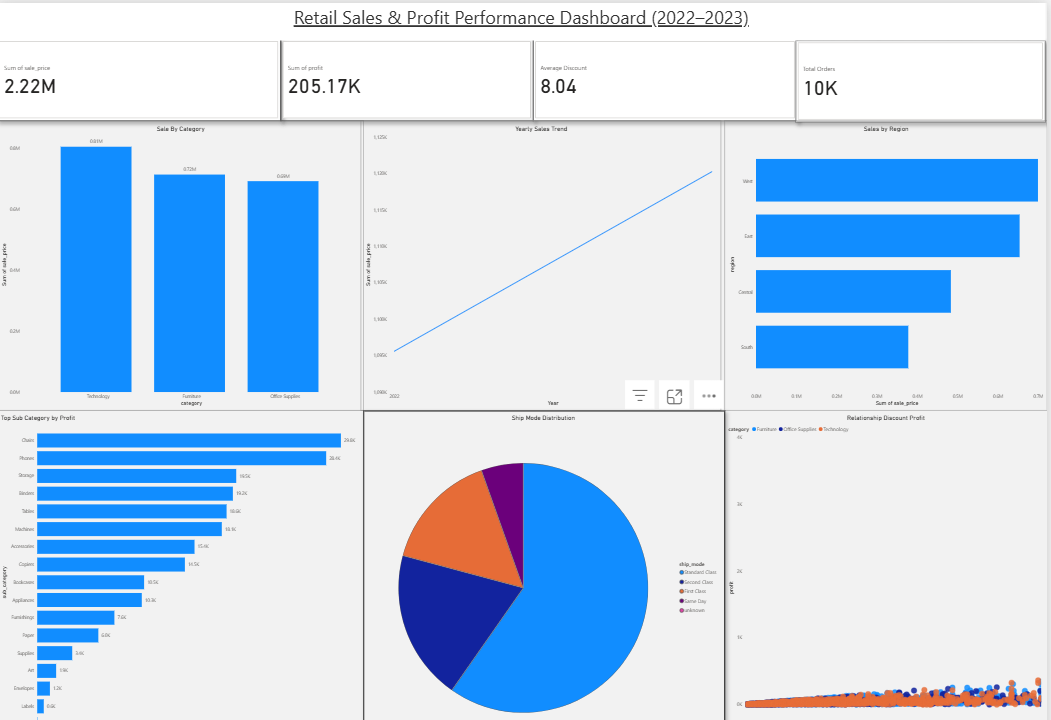

The dashboard page shown, as its layout file describes it:
{"tool":"powerbi","page":{"name":"Page 1","canvas":[2800,2500],"ordinal":0},"visuals":[{"type":"cardVisual","fields":{"Data":["Sum(cleaned_retail_data.sale_price)"]},"box":[0,95.7,756.5,217.4],"z":0},{"type":"cardVisual","fields":{"Data":["Sum(cleaned_retail_data.profit)"]},"box":[756.5,95.7,673.9,217.4],"z":1000},{"type":"cardVisual","fields":{"Data":["cleaned_retail_data.Average Discount"]},"box":[1430.4,95.7,704.3,217.4],"z":2000},{"type":"cardVisual","fields":{"Data":["cleaned_retail_data.Total Orders"]},"box":[2130.4,100,665.2,217.4],"z":3000},{"type":"clusteredColumnChart","title":"Sale By Category","fields":{"Category":["cleaned_retail_data.category"],"Y":["Sum(cleaned_retail_data.sale_price)"]},"box":[0,313,978.3,773.9],"z":4000},{"type":"lineChart","title":"Yearly Sales Trend","fields":{"Category":["cleaned_retail_data.month.Variation.Date Hierarchy.Year","cleaned_retail_data.month.Variation.Date Hierarchy.Quarter","cleaned_retail_data.month.Variation.Date Hierarchy.Month","cleaned_retail_data.month.Variation.Date Hierarchy.Day"],"Y":["Sum(cleaned_retail_data.sale_price)"]},"box":[969.6,313,960.9,773.9],"z":5000},{"type":"barChart","title":"Sales by Region","fields":{"Category":["cleaned_retail_data.region"],"Y":["Sum(cleaned_retail_data.sale_price)"]},"box":[1939.1,313,860.9,773.9],"z":6000},{"type":"barChart","title":"Top Sub Category by Profit","fields":{"Category":["cleaned_retail_data.sub_category"],"Y":["Sum(cleaned_retail_data.profit)"]},"box":[0,1087,978.3,921.7],"z":7000},{"type":"pieChart","title":"Ship Mode Distribution","fields":{"Category":["cleaned_retail_data.ship_mode"],"Y":["cleaned_retail_data.Total Orders"]},"box":[978.3,1087,960.9,921.7],"z":8000},{"type":"scatterChart","title":"Relationship Discount Profit","fields":{"X":["cleaned_retail_data.discount"],"Y":["cleaned_retail_data.profit"],"Series":["cleaned_retail_data.category"]},"box":[1939.1,1087,860.9,921.7],"z":9000},{"type":"advancedSlicerVisual","fields":{"Values":["cleaned_retail_data.order_date.Variation.Date Hierarchy.Year"]},"box":[0,2010,710,490],"z":10000},{"type":"advancedSlicerVisual","fields":{"Values":["cleaned_retail_data.category"]},"box":[710,2010,636.7,490],"z":11000},{"type":"advancedSlicerVisual","fields":{"Values":["cleaned_retail_data.ship_mode"]},"box":[1346.7,2010,786.7,490],"z":12000},{"type":"advancedSlicerVisual","fields":{"Values":["cleaned_retail_data.region"]},"box":[2133.3,2010,666.7,490],"z":13000},{"type":"textbox","box":[0,0,2795.7,100],"z":13001}]}

Visuals, with their boxes on the page's 2800x2500 design canvas (x1, y1, x2, y2). These are canvas units, not pixel positions in the 1051x720 screenshot, which may show the page scaled, cropped or inside an application window:
cardVisual - Sum(cleaned_retail_data.sale_price): (0, 96, 756, 313)
cardVisual - Sum(cleaned_retail_data.profit): (756, 96, 1430, 313)
cardVisual - cleaned_retail_data.Average Discount: (1430, 96, 2135, 313)
cardVisual - cleaned_retail_data.Total Orders: (2130, 100, 2796, 317)
"Sale By Category" clusteredColumnChart: (0, 313, 978, 1087)
"Yearly Sales Trend" lineChart: (970, 313, 1930, 1087)
"Sales by Region" barChart: (1939, 313, 2800, 1087)
"Top Sub Category by Profit" barChart: (0, 1087, 978, 2009)
"Ship Mode Distribution" pieChart: (978, 1087, 1939, 2009)
"Relationship Discount Profit" scatterChart: (1939, 1087, 2800, 2009)
advancedSlicerVisual - cleaned_retail_data.order_date.Variation.Date Hierarchy.Year: (0, 2010, 710, 2500)
advancedSlicerVisual - cleaned_retail_data.category: (710, 2010, 1347, 2500)
advancedSlicerVisual - cleaned_retail_data.ship_mode: (1347, 2010, 2133, 2500)
advancedSlicerVisual - cleaned_retail_data.region: (2133, 2010, 2800, 2500)
textbox: (0, 0, 2796, 100)
